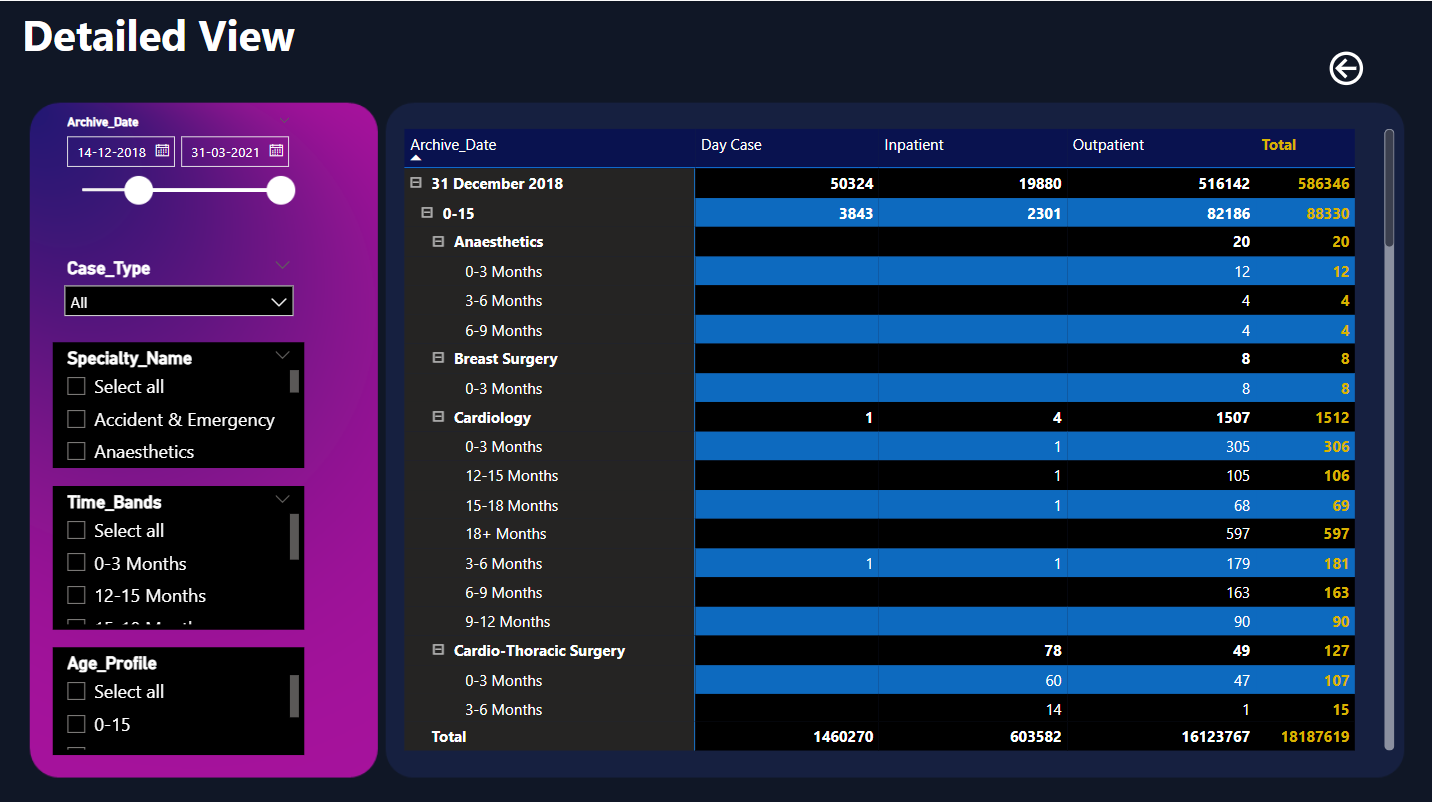

The dashboard page shown, as its layout file describes it:
{"tool":"powerbi","page":{"name":"Detailed View","canvas":[1280,720],"ordinal":1},"visuals":[{"type":"slicer","fields":{"Values":["All_Data.Archive_Date"]},"box":[48,96,224,112],"z":0},{"type":"slicer","fields":{"Values":["All_Data.Case_Type"]},"box":[48,224,224,64],"z":1000},{"type":"slicer","fields":{"Values":["All_Data.Specialty_Name"]},"box":[48,304,224,112],"z":2000},{"type":"textbox","box":[16,0,384,80],"z":3000},{"type":"slicer","fields":{"Values":["All_Data.Time_Bands"]},"box":[48,432,224,128],"z":4000},{"type":"slicer","fields":{"Values":["All_Data.Age_Profile"]},"box":[48,576,224,96],"z":5000},{"type":"pivotTable","fields":{"Rows":["All_Data.Archive_Date","All_Data.Age_Profile","All_Data.Specialty_Name","All_Data.Time_Bands"],"Columns":["All_Data.Case_Type"],"Values":["Sum(All_Data.Total)"]},"box":[355.9,108.6,891.6,563.4],"z":6000},{"type":"actionButton","box":[1179.5,39.8,100.1,39.8],"z":7000}]}

Visuals, with their boxes in screenshot pixels (x1, y1, x2, y2), scaled from the page's 1280x720 canvas onto the 1432x802 screenshot:
slicer - All_Data.Archive_Date: select_region(54, 107, 304, 232)
slicer - All_Data.Case_Type: select_region(54, 250, 304, 321)
slicer - All_Data.Specialty_Name: select_region(54, 339, 304, 463)
textbox: select_region(18, 0, 447, 89)
slicer - All_Data.Time_Bands: select_region(54, 481, 304, 624)
slicer - All_Data.Age_Profile: select_region(54, 642, 304, 749)
pivotTable - All_Data.Archive_Date x All_Data.Age_Profile: select_region(398, 121, 1396, 749)
actionButton: select_region(1320, 44, 1431, 89)
